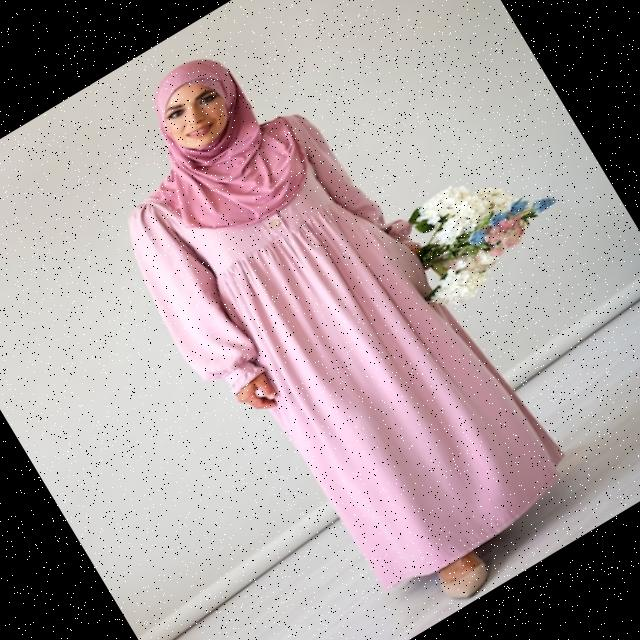Person: (56, 0, 602, 640)
